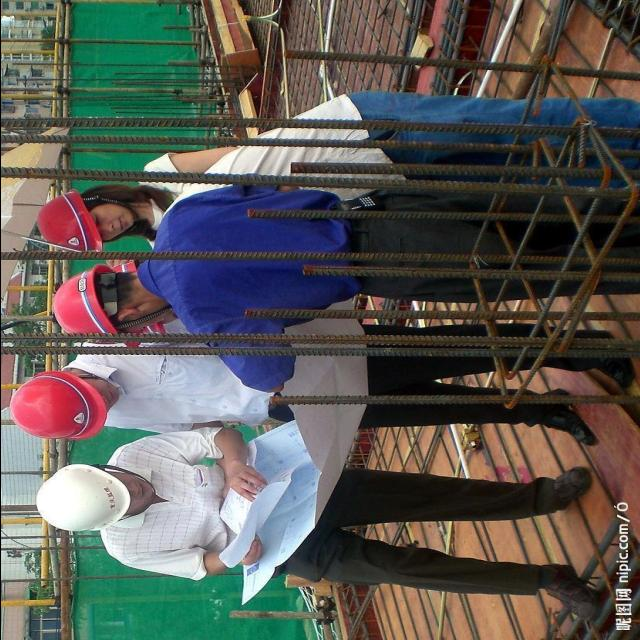helmet: (31, 458, 137, 542), (47, 260, 132, 350), (10, 366, 106, 442), (28, 187, 104, 255)
